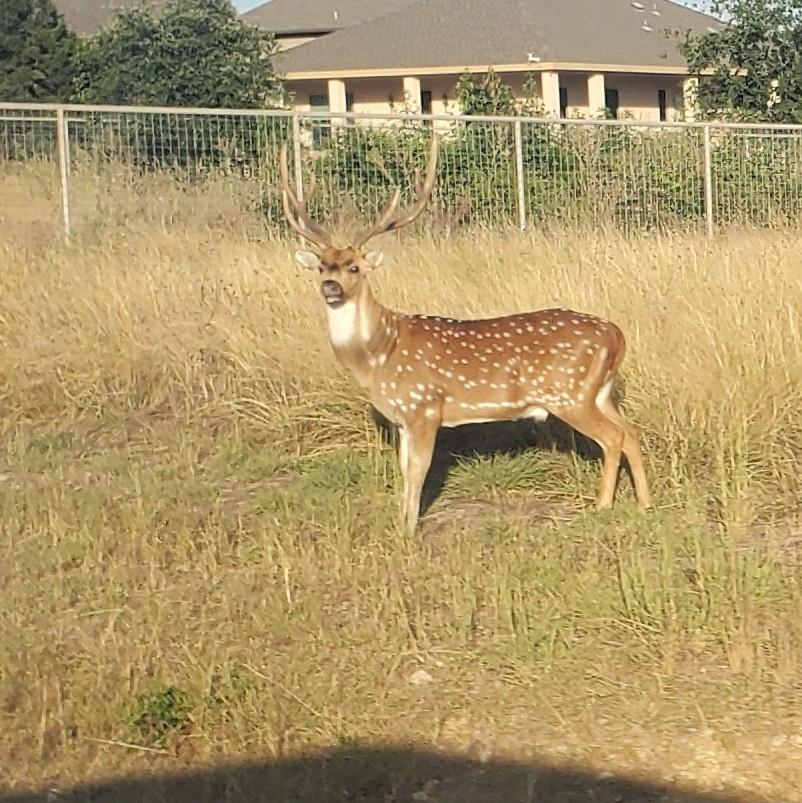Deer: (279, 138, 649, 529)
